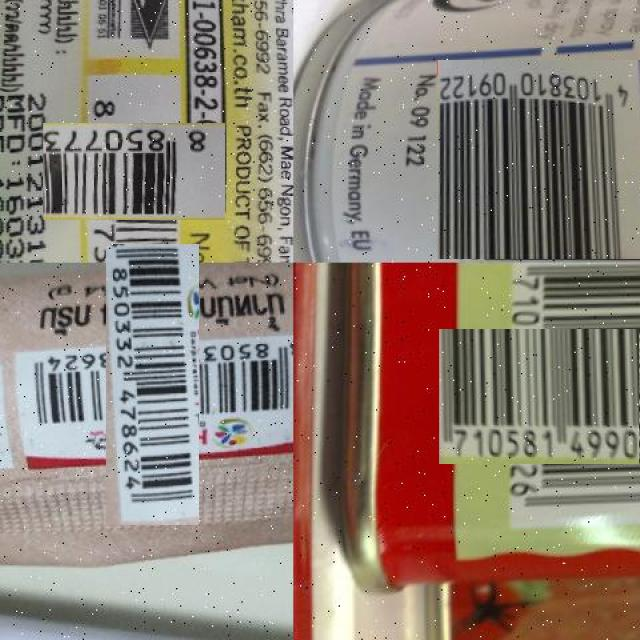Barcode: (438, 59, 640, 262), (59, 290, 246, 478), (471, 296, 640, 498), (64, 102, 204, 242)
